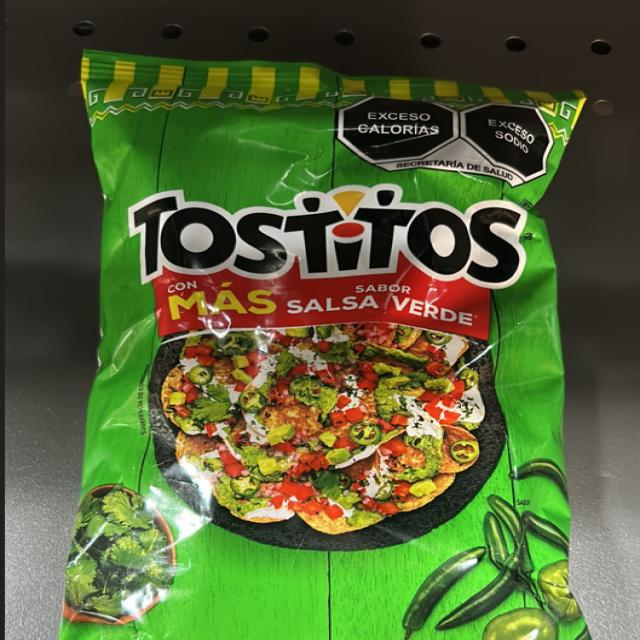tostitos: (110, 90, 542, 640)
